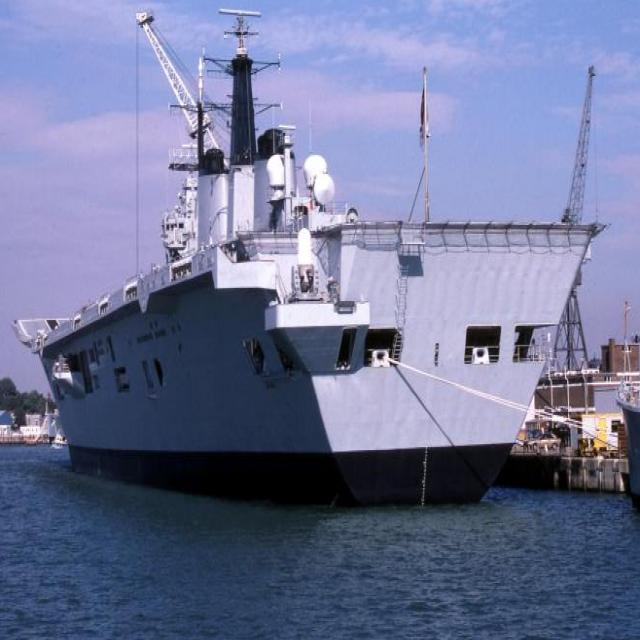Portanaves: (7, 1, 610, 515)
